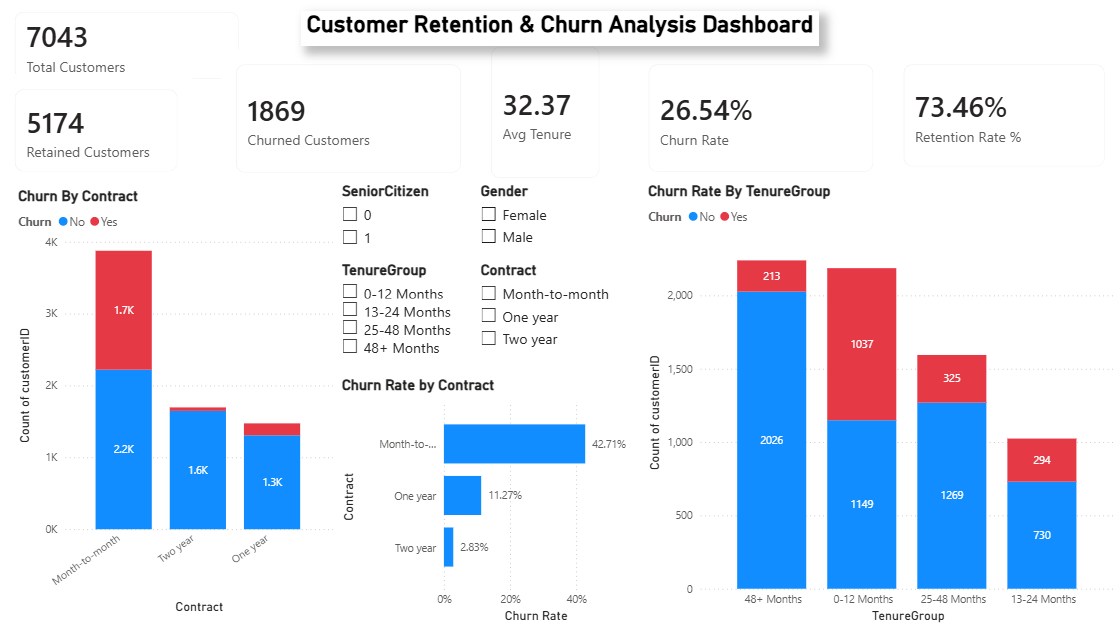

Layout of this report page (visuals, bound fields, positions):
{"tool":"powerbi","page":{"name":"Page 1","canvas":[1280,720],"ordinal":0},"visuals":[{"type":"cardVisual","fields":{"Data":["Customer data.Total Customers"]},"box":[0,0,290,111.4],"z":1000},{"type":"cardVisual","fields":{"Data":["Customer data.Churned Customers"]},"box":[252.9,60,291.4,158.6],"z":2000},{"type":"cardVisual","fields":{"Data":["Customer data.Churn Rate"]},"box":[724.3,60,291.4,157.1],"z":3000},{"type":"cardVisual","fields":{"Data":["Customer data.Avg Tenure"]},"box":[544.3,40,158.6,184.3],"z":4000},{"type":"textbox","title":"Customer Retention & Churn Analysis Dashboard","box":[344.3,15.7,591.4,40],"z":5000},{"type":"columnChart","title":"Churn By Contract","fields":{"Category":["Customer data.Contract"],"Series":["Customer data.Churn"],"Y":["CountNonNull(Customer data.customerID)"]},"box":[15.7,217.1,370,492.9],"z":6000},{"type":"cardVisual","fields":{"Data":["Customer data.Retained Customers"]},"box":[0,88.6,220,128.6],"z":7000},{"type":"cardVisual","fields":{"Data":["Customer data.Retention Rate %"]},"box":[1015.7,60,264.3,151.4],"z":8000},{"type":"listSlicer","title":"Gender","fields":{"Values":["Customer data.gender"]},"box":[544.3,211.4,112.9,234.3],"z":9000},{"type":"columnChart","title":"Churn Rate By TenureGroup","fields":{"Category":["Customer data.TenureGroup"],"Series":["Customer data.Churn"],"Y":["CountNonNull(Customer data.customerID)"]},"box":[735.7,211.4,544.3,508.6],"z":10000},{"type":"listSlicer","fields":{"Values":["Customer data.SeniorCitizen"]},"box":[385.7,211.4,125.7,241.4],"z":11000},{"type":"listSlicer","fields":{"Values":["Customer data.TenureGroup"]},"box":[385.7,301.4,300,200],"z":12000},{"type":"listSlicer","fields":{"Values":["Customer data.Contract"]},"box":[544.3,301.4,180,242.9],"z":13000},{"type":"clusteredBarChart","fields":{"Y":["Customer data.Churn Rate"],"Category":["Customer data.Contract"]},"box":[385.7,432.9,350,287.1],"z":14000}]}

Visuals, with their boxes in screenshot pixels (x1, y1, x2, y2), scaled from the page's 1280x720 canvas onto the 1119x624 screenshot:
cardVisual - Customer data.Total Customers: (x1=0, y1=0, x2=254, y2=97)
cardVisual - Customer data.Churned Customers: (x1=221, y1=52, x2=476, y2=189)
cardVisual - Customer data.Churn Rate: (x1=633, y1=52, x2=888, y2=188)
cardVisual - Customer data.Avg Tenure: (x1=476, y1=35, x2=614, y2=194)
"Customer Retention & Churn Analysis Dashboard" textbox: (x1=301, y1=14, x2=818, y2=48)
"Churn By Contract" columnChart: (x1=14, y1=188, x2=337, y2=615)
cardVisual - Customer data.Retained Customers: (x1=0, y1=77, x2=192, y2=188)
cardVisual - Customer data.Retention Rate %: (x1=888, y1=52, x2=1118, y2=183)
"Gender" listSlicer: (x1=476, y1=183, x2=575, y2=386)
"Churn Rate By TenureGroup" columnChart: (x1=643, y1=183, x2=1118, y2=623)
listSlicer - Customer data.SeniorCitizen: (x1=337, y1=183, x2=447, y2=392)
listSlicer - Customer data.TenureGroup: (x1=337, y1=261, x2=599, y2=435)
listSlicer - Customer data.Contract: (x1=476, y1=261, x2=633, y2=472)
clusteredBarChart - Customer data.Churn Rate x Customer data.Contract: (x1=337, y1=375, x2=643, y2=623)
